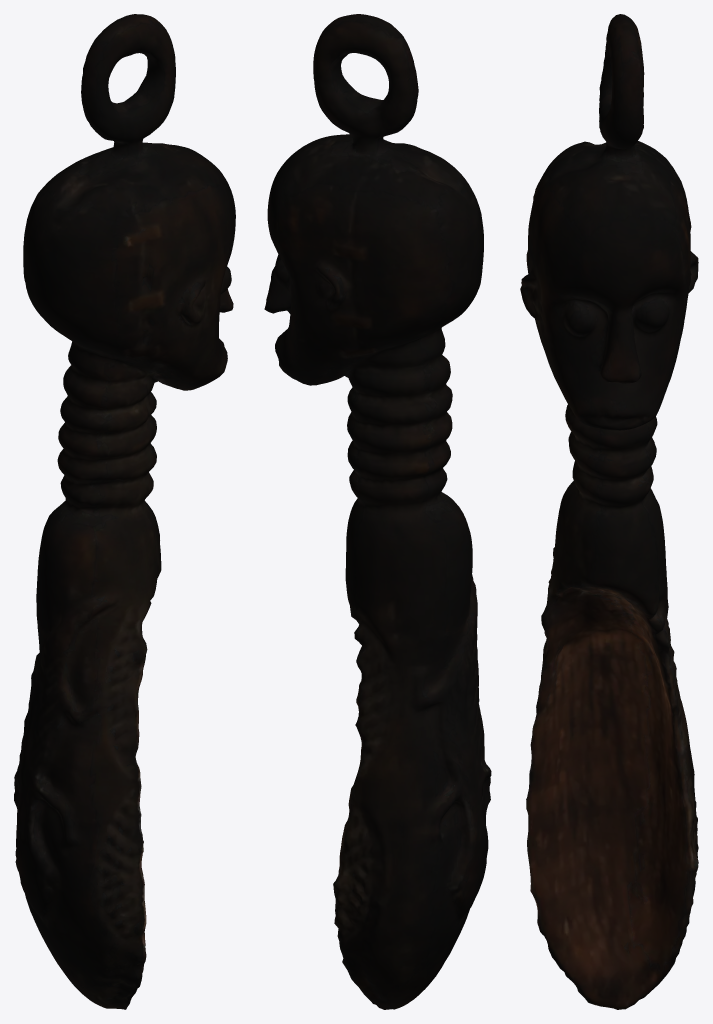
The model's file is preview.glb.
3 views of the same model, side by side, from view 1: azimuth 30°, elevation 25°; view 2: azimuth 150°, elevation 25°; view 3: azimuth 270°, elevation 25° (orthographic).
Parts seen in each view (by area): view 1: Object_2; view 2: Object_2; view 3: Object_2.
Part boxes in pixels (<box>): Object_2: <box>14,14,235,1009</box>; Object_2: <box>264,14,491,1009</box>; Object_2: <box>520,14,698,1009</box>.
Size of the model in its own units: 98.78 by 445 by 72.03.
Materials: 1 (1 with a texture image).
